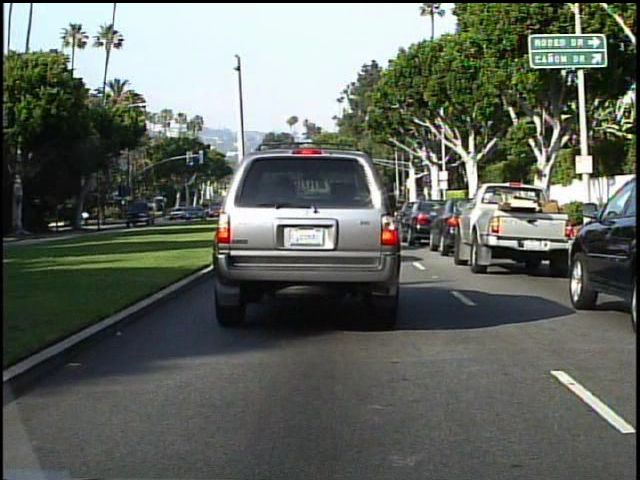person: (82, 208, 93, 228)
